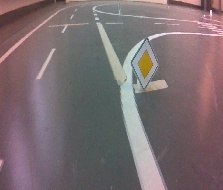priority road sign: (129, 35, 161, 92)
